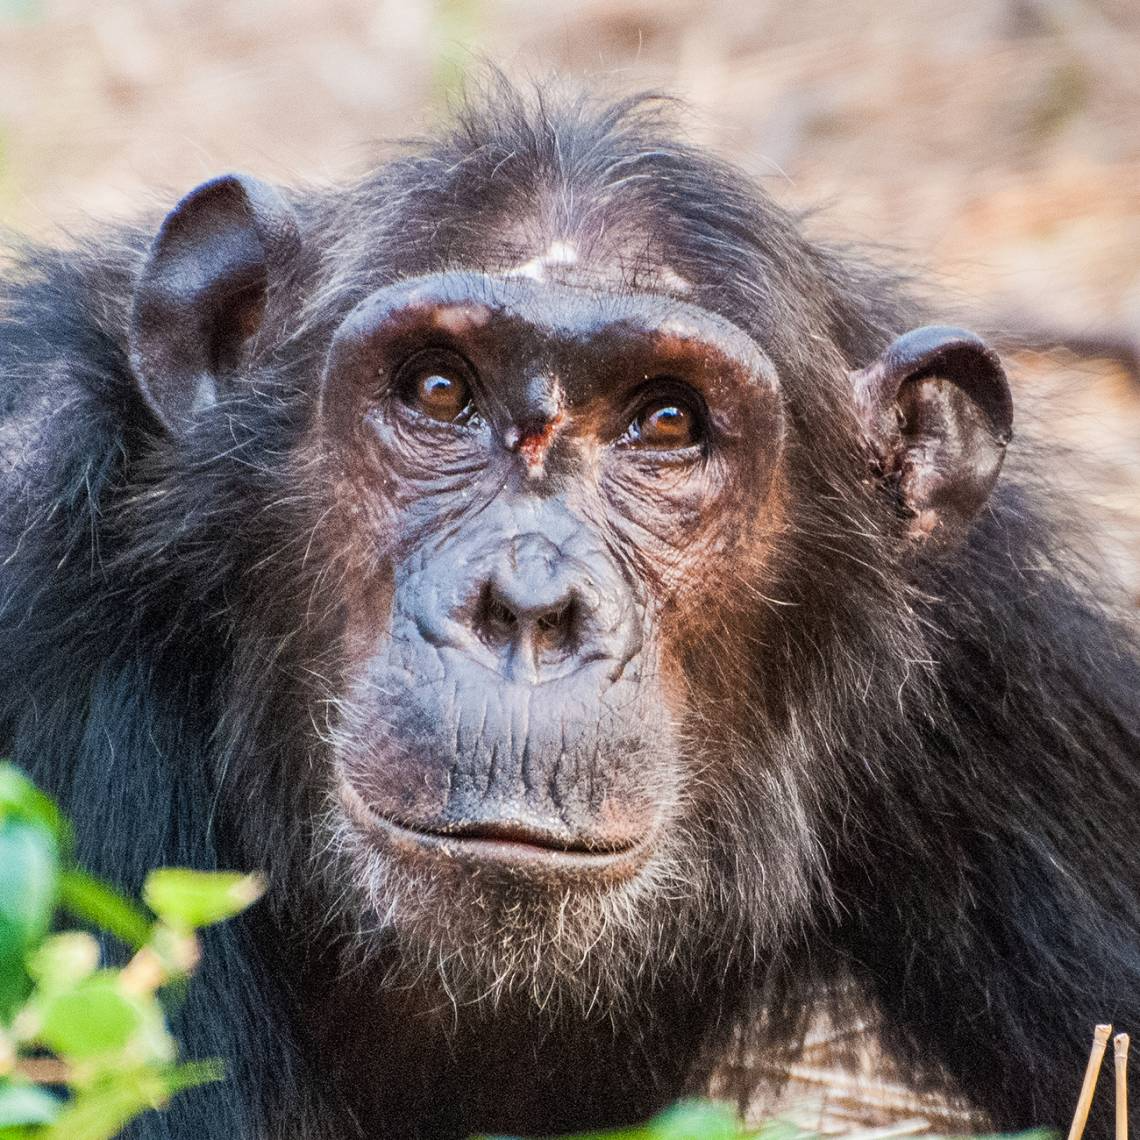Champanze: (130, 141, 1024, 1090)
